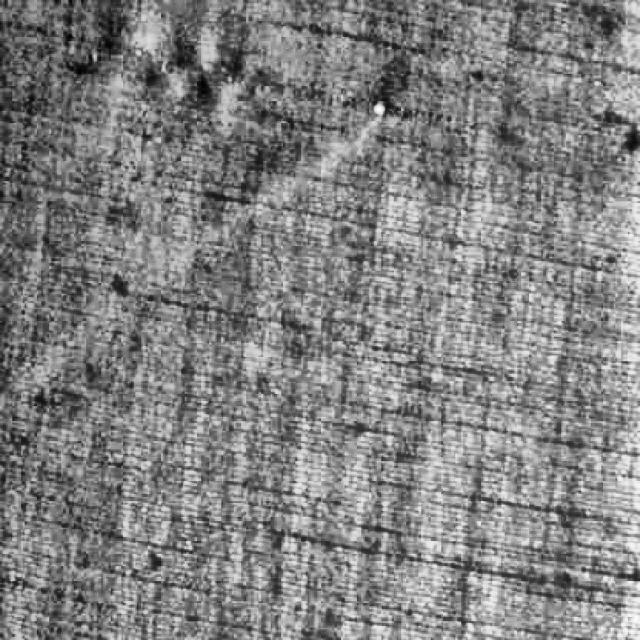hole: (368, 96, 394, 122)
